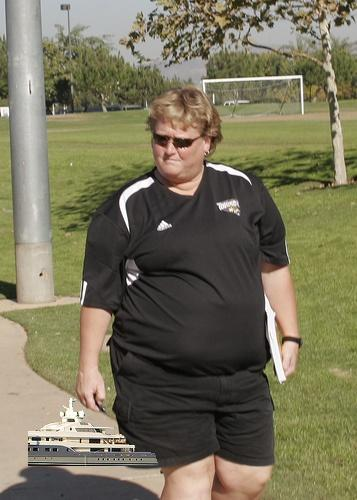tampered: (29, 399, 158, 466)
